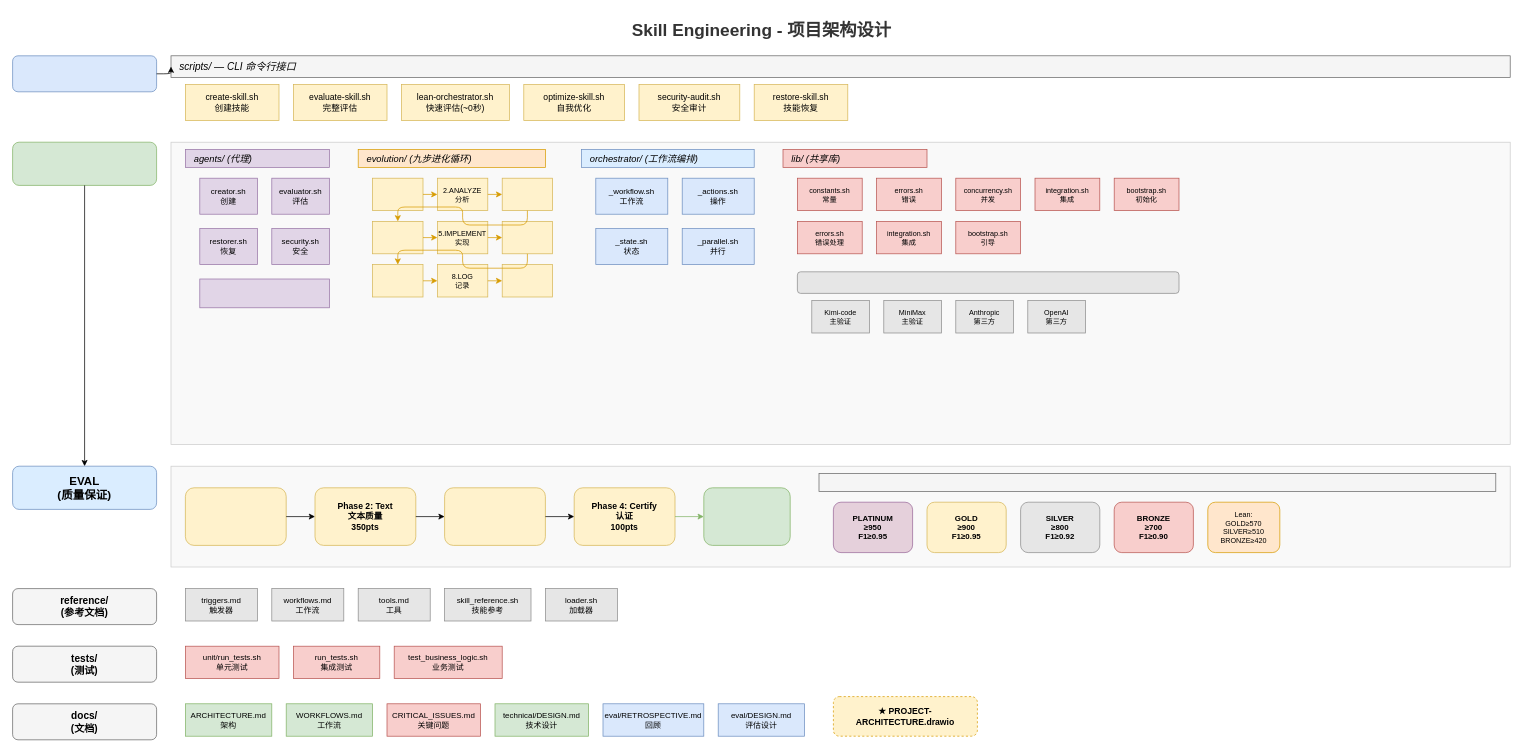
This 1523x752 diagram has some shape labels left out. Here are the shapes that lost their labels. From the top down, the box of each, then its label:
(12, 55, 157, 92): USER INTERFACE (用户界面)
(12, 141, 157, 185): ENGINE (生命周期管理)
(372, 177, 423, 211): 1.READ 读取
(501, 177, 553, 211): 3.CURATION 筛选
(372, 221, 423, 254): 4.PLAN 计划
(501, 221, 553, 254): 6.VERIFY 验证
(199, 278, 329, 308): base.sh 基础
(372, 264, 423, 297): 7.HUMAN_REVIEW 人工审核
(501, 264, 553, 297): 9.COMMIT 提交
(797, 271, 1179, 293): Multi-LLM Providers (多LLM交叉验证)
(818, 473, 1496, 491): Certification Tiers (认证等级)
(185, 487, 286, 545): Phase 1: Parse 结构解析 100pts
(444, 487, 545, 545): Phase 3: Runtime 运行时 450pts
(703, 487, 790, 545): Total: 1000pts
